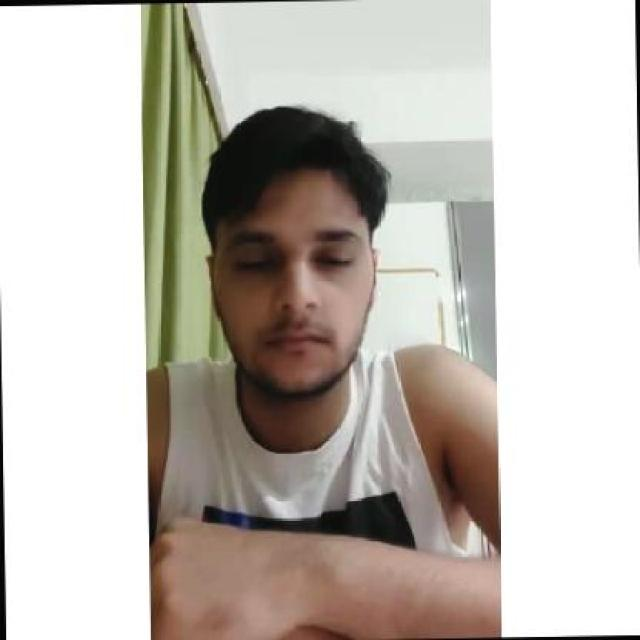inattentif: (203, 105, 385, 402)
